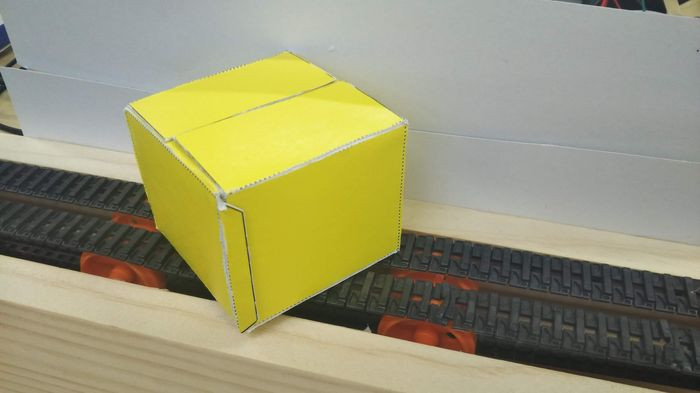box4: (122, 47, 409, 338)
